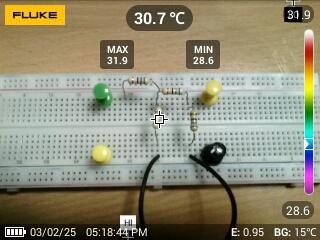resistor: (124, 73, 153, 88), (186, 106, 201, 134), (159, 85, 186, 97), (152, 105, 164, 131)
